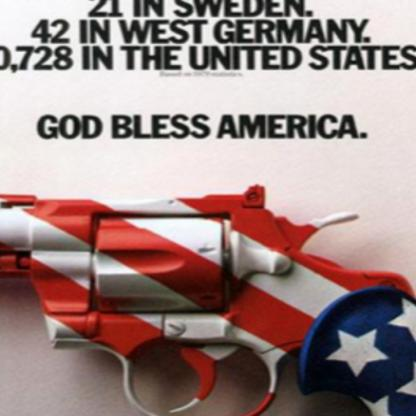gun: (0, 177, 415, 415)
